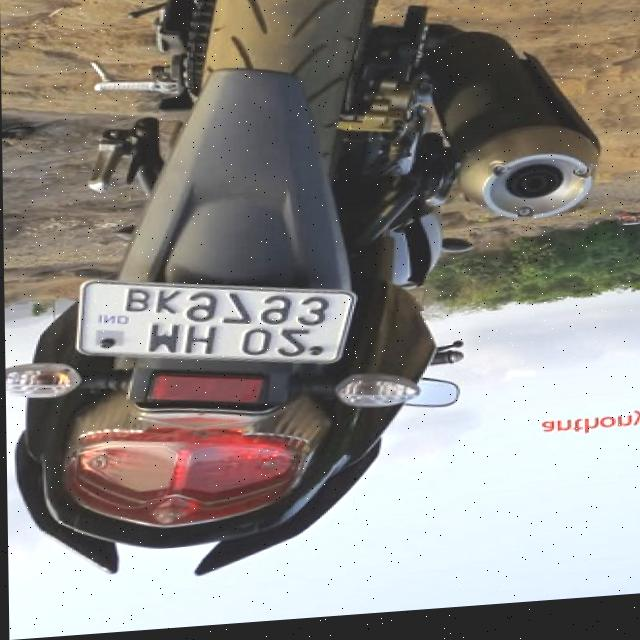plate: (71, 267, 358, 386)
